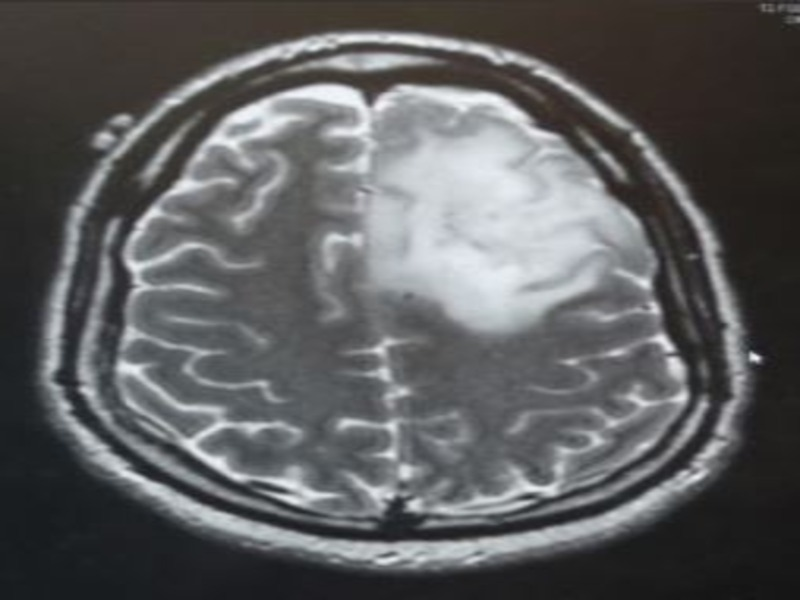tumor: (362, 120, 619, 336)
